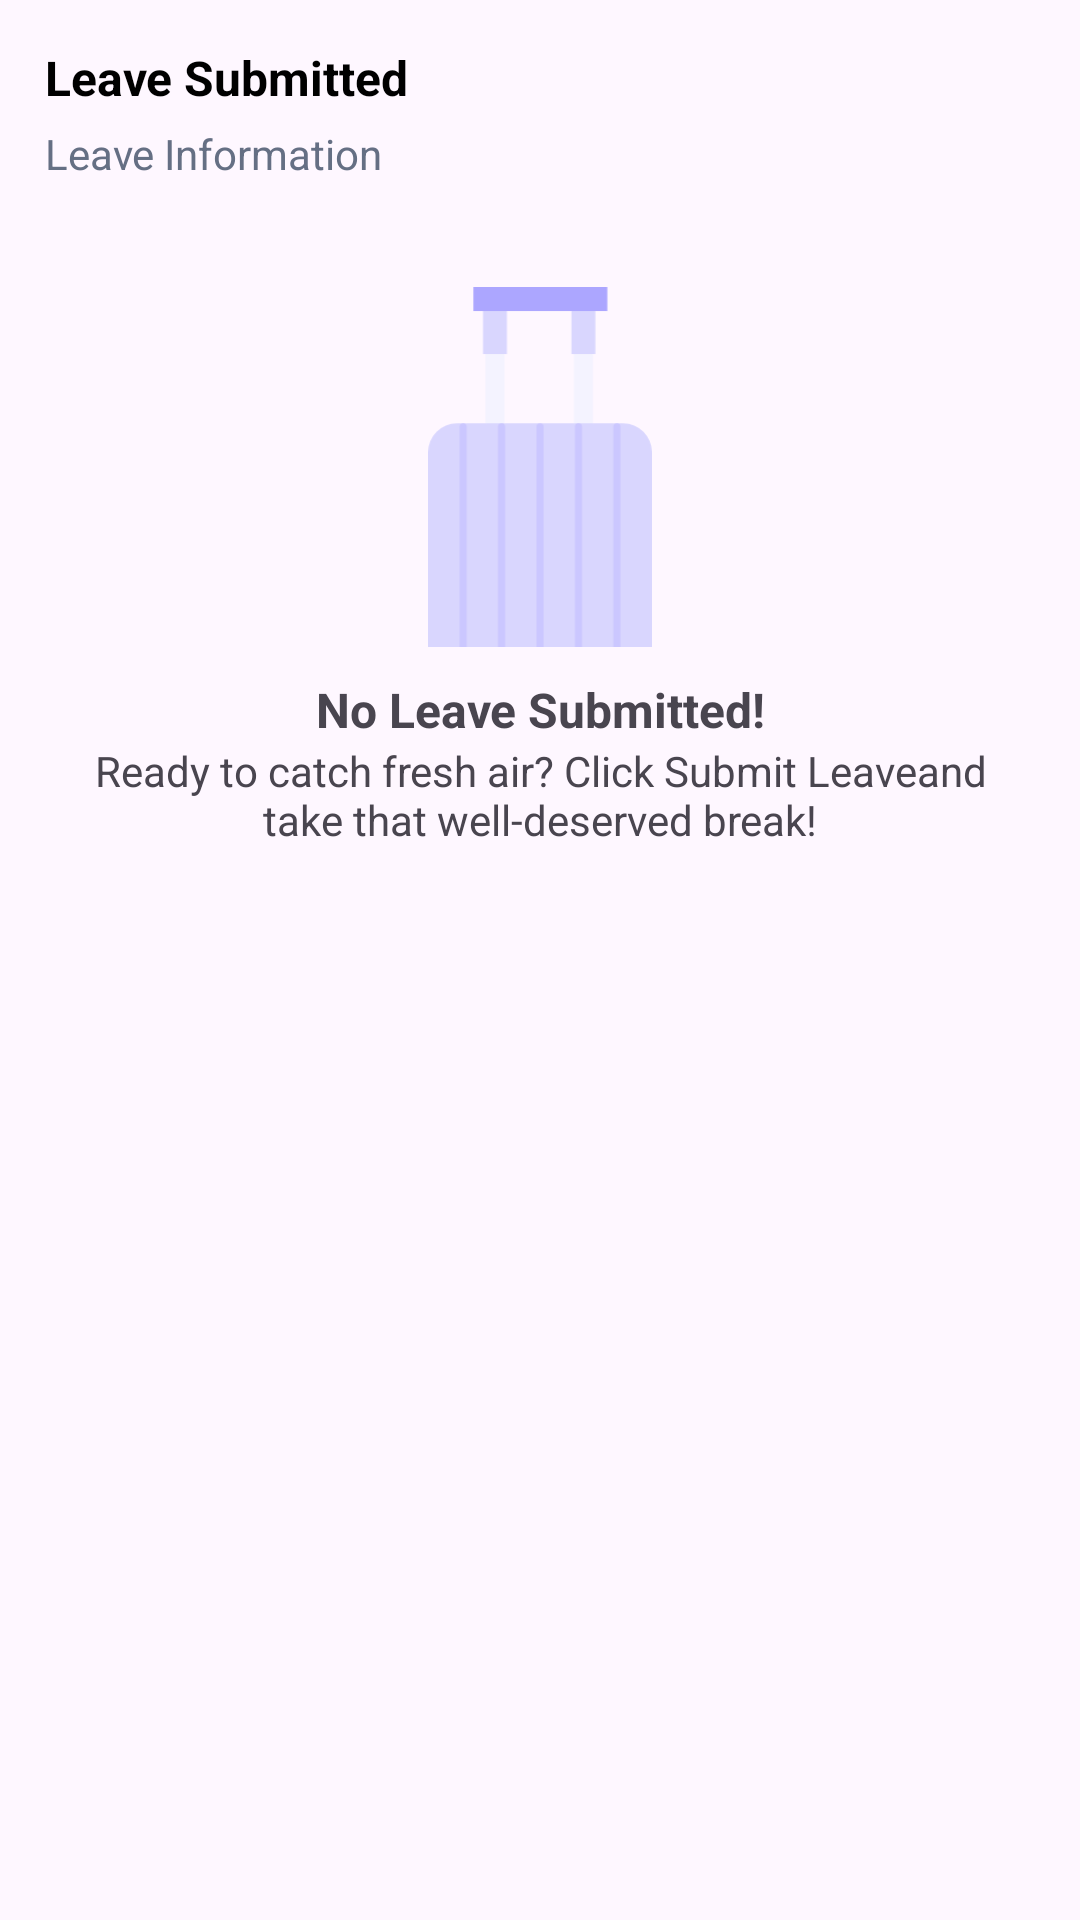

Where icons sit on this 1080px x 1920px app screen, as (x1, y1, x2, y2):
suitcase: (428, 287, 652, 647)
